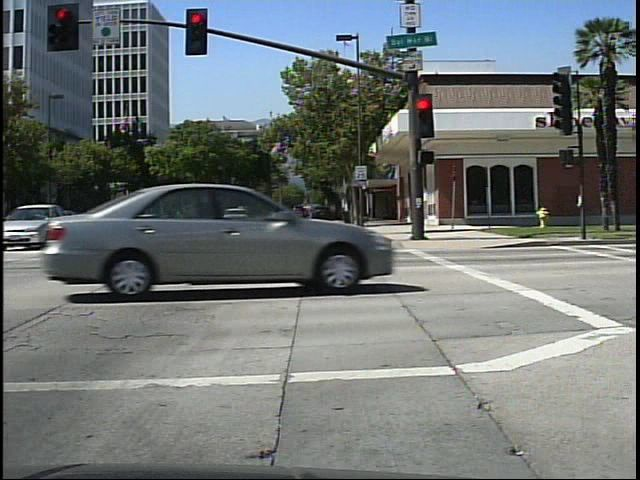person: (274, 204, 286, 223)
